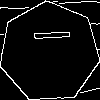I: (24, 27, 70, 44)
